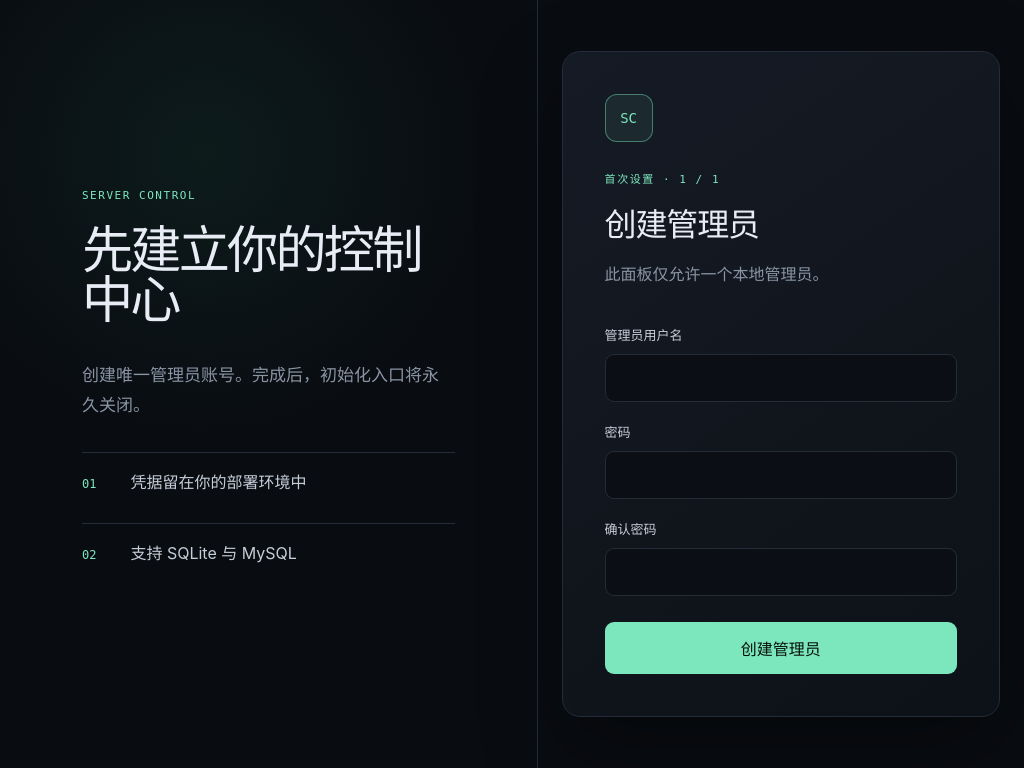
Scenario: requires matching passwords before initializing
Type "admin" into the field labelled "管理员用户名" at (781, 378), box top-left (605, 354), bottom-right (957, 402)
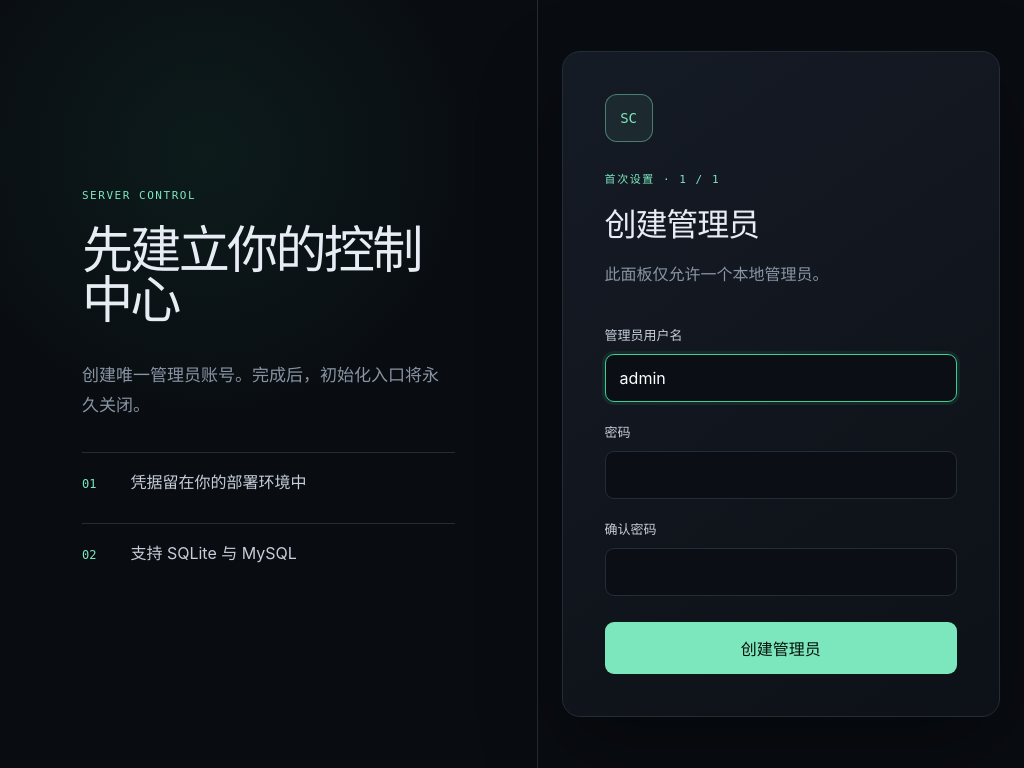
Type "secure passphrase" into the password field labelled "密码" at (781, 475), box top-left (605, 451), bottom-right (957, 499)
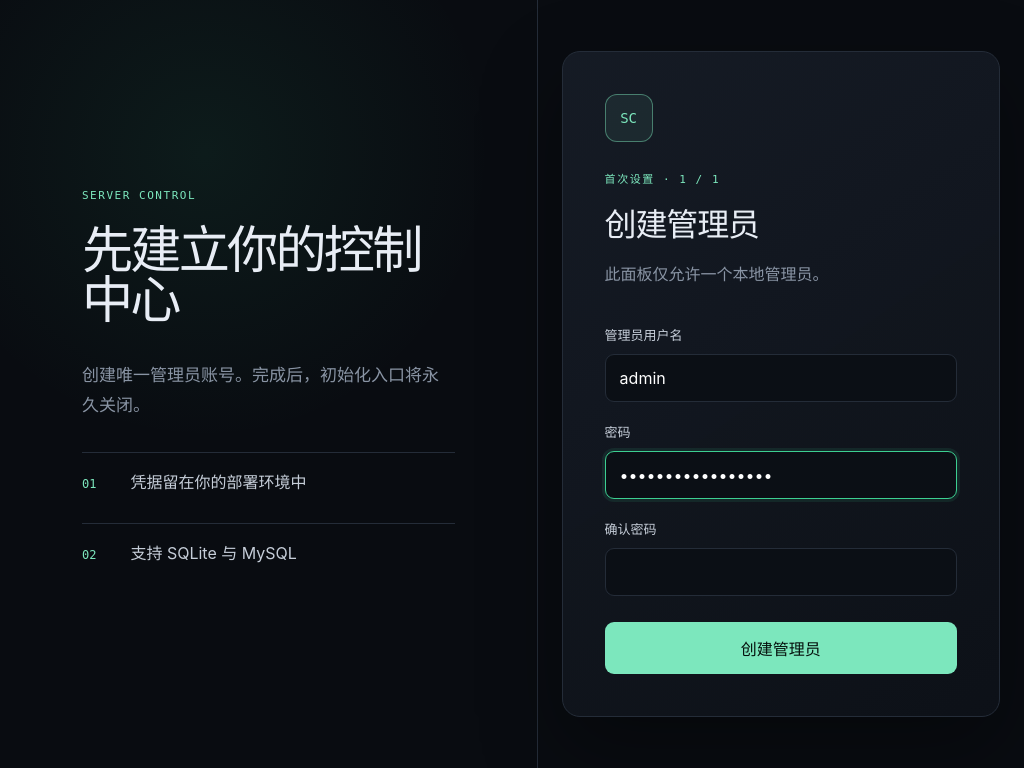
Type "different passphrase" into the password field labelled "确认密码" at (781, 572), box top-left (605, 548), bottom-right (957, 596)
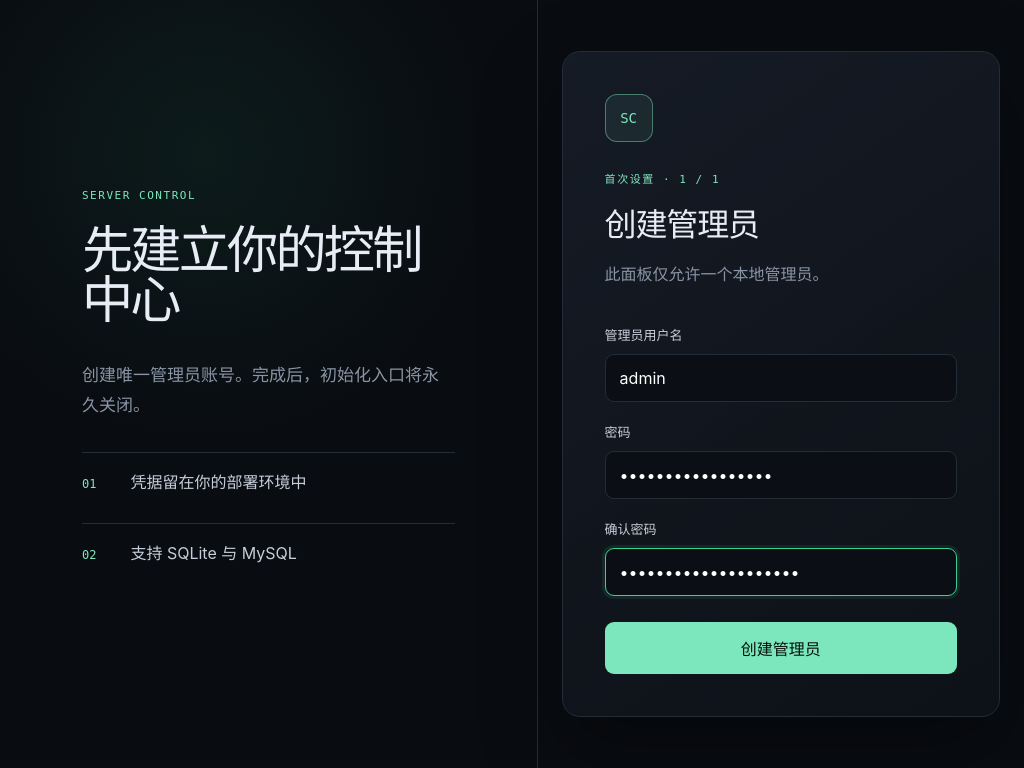
Click the button "创建管理员" at (781, 648), box top-left (605, 622), bottom-right (957, 674)
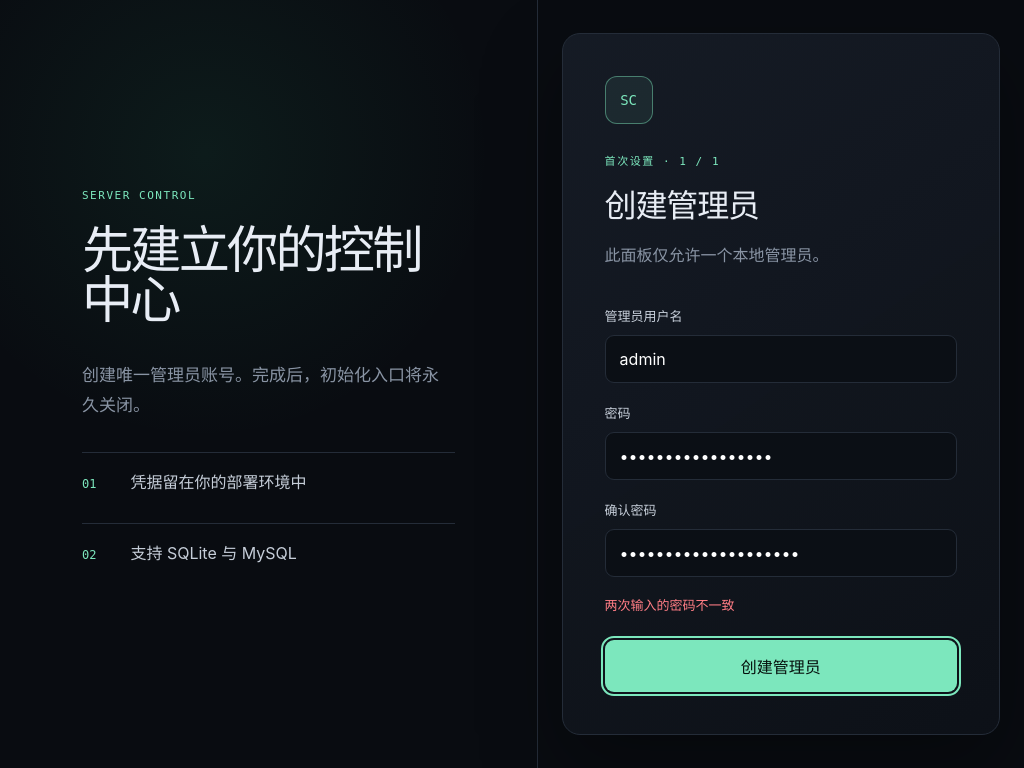
Result: the message reads "两次输入的密码不一致" at top-left (605, 597), bottom-right (735, 613)
